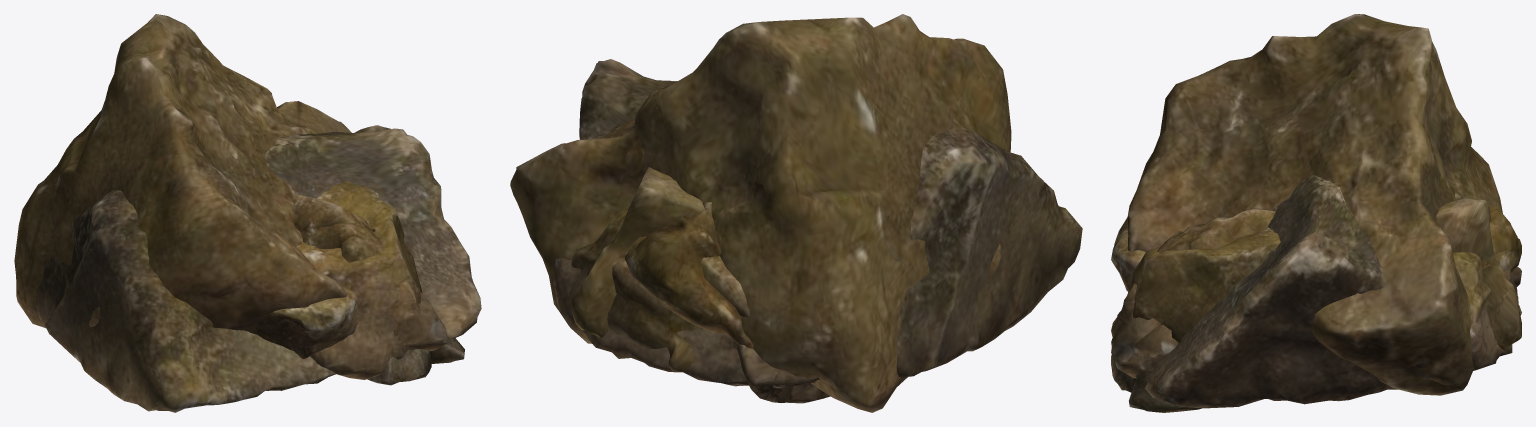
The model's file is rocks.glb.
3 renders of one model, left to right at view 1: azimuth 30°, elevation 25°; view 2: azimuth 150°, elevation 25°; view 3: azimuth 270°, elevation 25°, orthographic. The views are drawn at different scales.
Parts seen in each view (by area): view 1: Rock4_LOD0, Rock3_LOD0, Rock6_LOD0, Rock1_LOD0, Rock5_LOD0, Rock2_LOD0; view 2: Rock4_LOD0, Rock3_LOD0, Rock1_LOD0, Rock5_LOD0, Rock6_LOD0, Rock2_LOD0; view 3: Rock4_LOD0, Rock3_LOD0, Rock6_LOD0, Rock1_LOD0, Rock5_LOD0, Rock2_LOD0.
Boxes of the visible parts, x1,y1,x2,y2 form: Rock4_LOD0: (14, 14, 351, 334); Rock3_LOD0: (35, 125, 481, 412); Rock6_LOD0: (296, 181, 422, 379); Rock1_LOD0: (292, 193, 447, 351); Rock5_LOD0: (254, 287, 357, 358); Rock2_LOD0: (367, 336, 464, 385); Rock4_LOD0: (510, 14, 1011, 412); Rock3_LOD0: (553, 59, 1082, 388); Rock1_LOD0: (625, 202, 753, 348); Rock5_LOD0: (563, 202, 749, 372); Rock6_LOD0: (571, 167, 704, 358); Rock2_LOD0: (737, 343, 830, 403); Rock4_LOD0: (1127, 14, 1502, 395); Rock3_LOD0: (1114, 175, 1517, 408); Rock6_LOD0: (1111, 198, 1521, 351); Rock1_LOD0: (1111, 192, 1521, 378); Rock5_LOD0: (1111, 228, 1521, 354); Rock2_LOD0: (1111, 266, 1521, 412).
Size of what is drawn, in the model's own units: 1 by 0.8287 by 1.
Materials: 1 (1 with a texture image).
